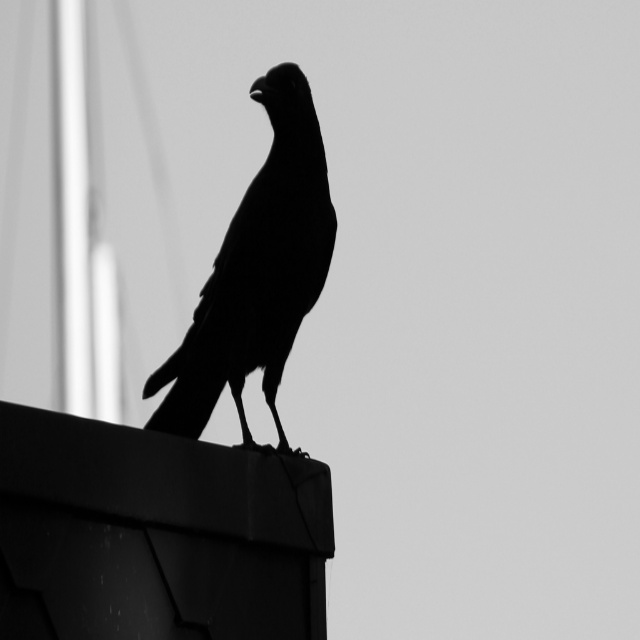Raven: (142, 62, 338, 459)
